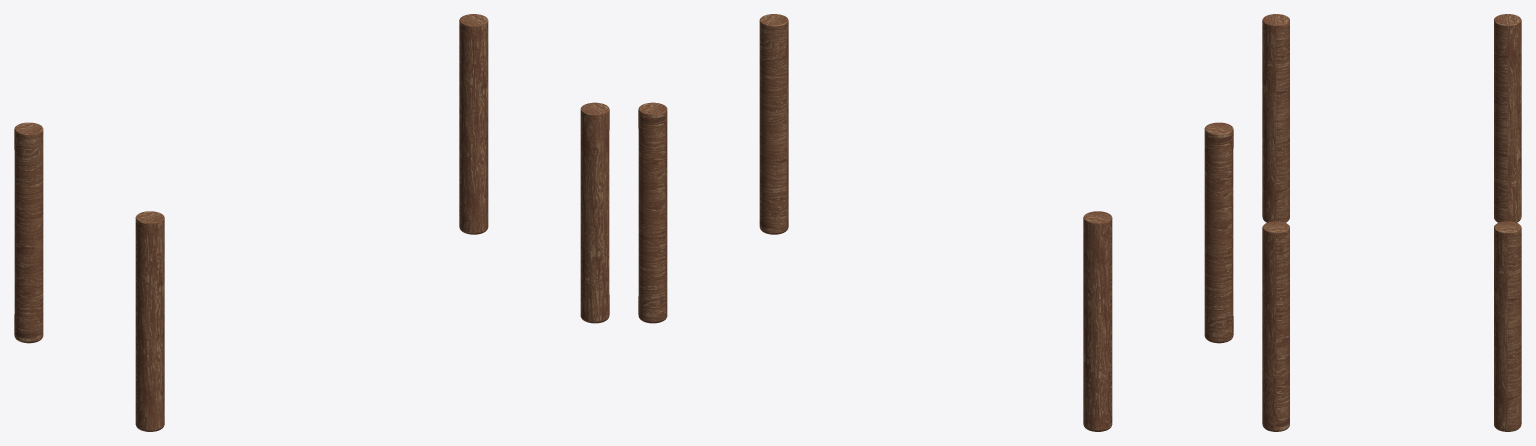
The model's file is TableLegs_Long_Cedar.obj.
The picture shows the model from 3 angles, left to right: view 1: azimuth 30°, elevation 25°; view 2: azimuth 150°, elevation 25°; view 3: azimuth 270°, elevation 25°; orthographic projection. The views are drawn at different scales.
Size of the model in its own units: 1500 by 641 by 750.
